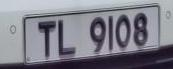0: (113, 11, 131, 54)
1: (102, 13, 116, 56)
8: (132, 10, 150, 51)
9: (89, 14, 108, 57)
L: (55, 17, 81, 60)
T: (34, 16, 58, 65)
